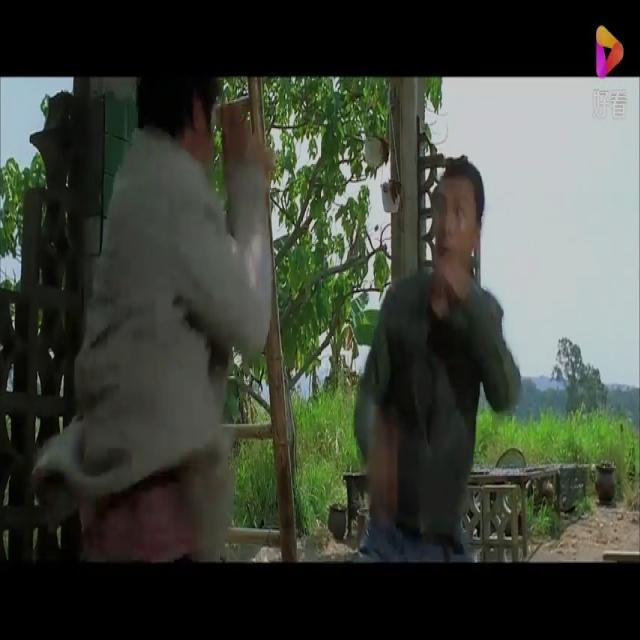fight: (14, 75, 531, 561)
